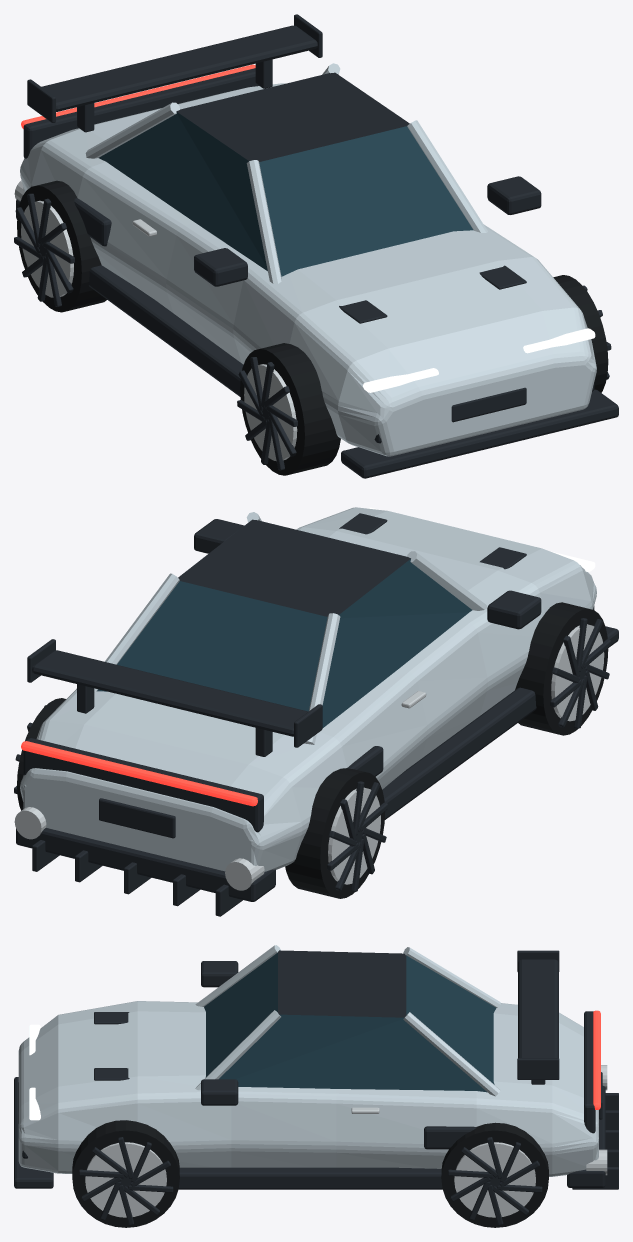
File: raven-coupe.glb
3 views of the same model, one above another, from view 1: azimuth 30°, elevation 25°; view 2: azimuth 150°, elevation 25°; view 3: azimuth 270°, elevation 25° (orthographic). The views are drawn at different scales.
Parts seen in each view (by area): view 1: Craft_Pearl silver, Craft_Carbon graphite, Craft_Smoked glazing, Craft_Rubber, Craft_Rubber.001, Craft_Carbon graphite.002, Craft_Carbon graphite.001, Craft_Machined aluminum.001, Craft_Machined aluminum.002, Craft_Rubber.002, Craft_Headlight LED, Craft_Rear LED; view 2: Craft_Pearl silver, Craft_Carbon graphite, Craft_Smoked glazing, Craft_Rubber.001, Craft_Rubber, Craft_Carbon graphite.002, Craft_Carbon graphite.001, Craft_Rear LED, Craft_Machined aluminum, Craft_Machined aluminum.001, Craft_Machined aluminum.002, Craft_Rubber.003; view 3: Craft_Pearl silver, Craft_Carbon graphite, Craft_Smoked glazing, Craft_Rubber.002, Craft_Rubber.003, Craft_Machined aluminum.003, Craft_Machined aluminum.004, Craft_Carbon graphite.003, Craft_Carbon graphite.004, Craft_Rear LED, Craft_Machined aluminum, Craft_Headlight LED.
Part boxes in pixels (bbox=[...]): Craft_Pearl silver: bbox=[20, 63, 596, 456]; Craft_Carbon graphite: bbox=[16, 14, 618, 478]; Craft_Smoked glazing: bbox=[99, 111, 473, 276]; Craft_Rubber: bbox=[240, 343, 340, 475]; Craft_Rubber.001: bbox=[17, 180, 106, 312]; Craft_Carbon graphite.002: bbox=[14, 193, 74, 306]; Craft_Carbon graphite.001: bbox=[237, 357, 297, 470]; Craft_Machined aluminum.001: bbox=[244, 364, 297, 461]; Craft_Machined aluminum.002: bbox=[21, 200, 73, 297]; Craft_Rubber.002: bbox=[553, 275, 608, 392]; Craft_Headlight LED: bbox=[363, 328, 595, 392]; Craft_Rear LED: bbox=[21, 64, 255, 128]; Craft_Pearl silver: bbox=[20, 507, 596, 871]; Craft_Carbon graphite: bbox=[16, 513, 618, 916]; Craft_Smoked glazing: bbox=[97, 559, 472, 727]; Craft_Rubber.001: bbox=[285, 768, 385, 898]; Craft_Rubber: bbox=[515, 602, 608, 735]; Craft_Carbon graphite.002: bbox=[327, 781, 387, 891]; Craft_Carbon graphite.001: bbox=[550, 618, 611, 728]; Craft_Rear LED: bbox=[21, 741, 257, 806]; Craft_Machined aluminum: bbox=[14, 691, 426, 890]; Craft_Machined aluminum.001: bbox=[551, 624, 604, 721]; Craft_Machined aluminum.002: bbox=[328, 787, 380, 884]; Craft_Rubber.003: bbox=[17, 698, 65, 810]; Craft_Pearl silver: bbox=[18, 945, 598, 1176]; Craft_Carbon graphite: bbox=[14, 950, 618, 1189]; Craft_Smoked glazing: bbox=[204, 952, 496, 1092]; Craft_Rubber.002: bbox=[72, 1120, 179, 1227]; Craft_Rubber.003: bbox=[441, 1122, 548, 1227]; Craft_Machined aluminum.003: bbox=[85, 1142, 166, 1217]; Craft_Machined aluminum.004: bbox=[454, 1142, 535, 1217]; Craft_Carbon graphite.003: bbox=[79, 1137, 173, 1225]; Craft_Carbon graphite.004: bbox=[448, 1137, 542, 1225]; Craft_Rear LED: bbox=[593, 1010, 600, 1109]; Craft_Machined aluminum: bbox=[351, 1065, 607, 1175]; Craft_Headlight LED: bbox=[29, 1024, 40, 1120].
Bounding box in the file's own units: 2.68 × 1.78 × 5.18.
